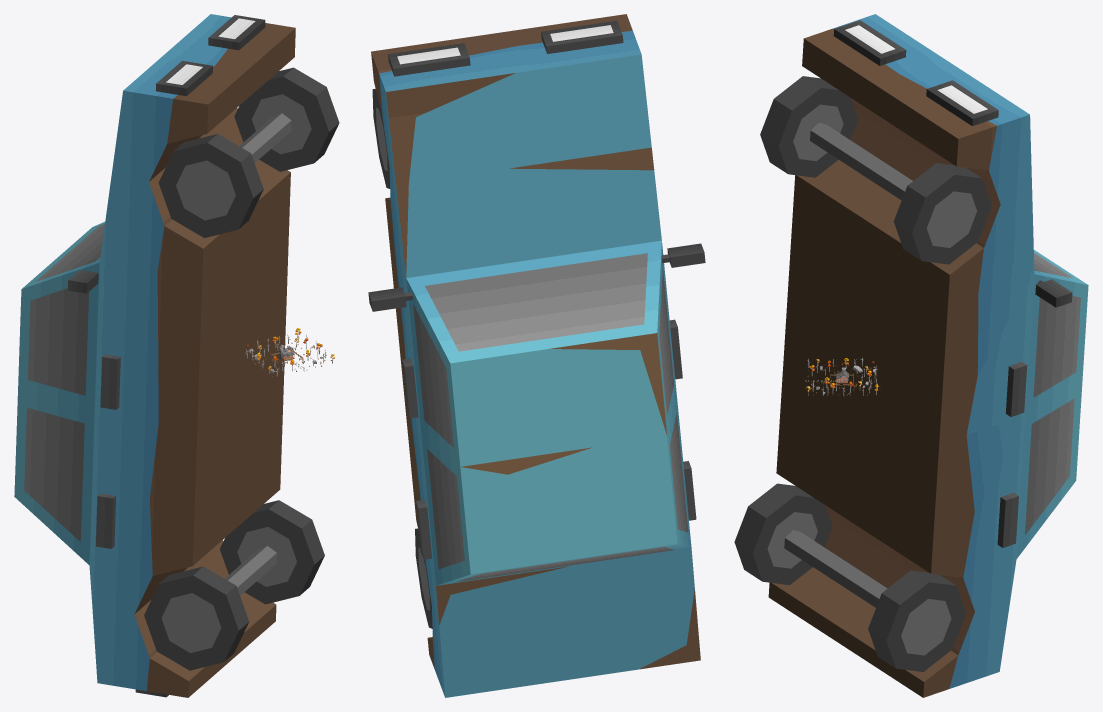
File: field_17.glb
3 renders of one model, left to right at view 1: azimuth 30°, elevation 25°; view 2: azimuth 150°, elevation 25°; view 3: azimuth 270°, elevation 25°, orthographic. The views are drawn at different scales.
Parts seen in each view (by area): view 1: rotten sedan car blue_79; view 2: rotten sedan car blue_79; view 3: rotten sedan car blue_79.
Part boxes in pixels (x1=…): rotten sedan car blue_79: x1=14, y1=14, x2=339, y2=697; rotten sedan car blue_79: x1=368, y1=14, x2=705, y2=697; rotten sedan car blue_79: x1=734, y1=14, x2=1088, y2=697.
Size of the model in its own units: 14.93 by 28.17 by 14.82.
Materials: 1 (1 with a texture image).
